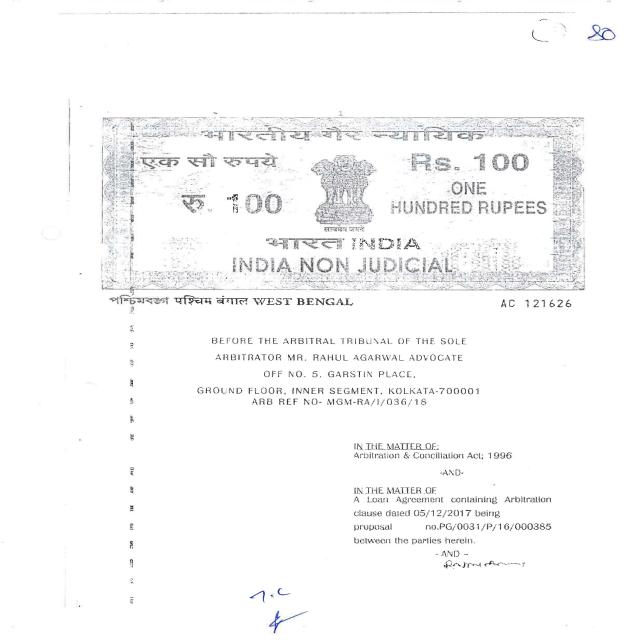page-number: (576, 0, 640, 67)
